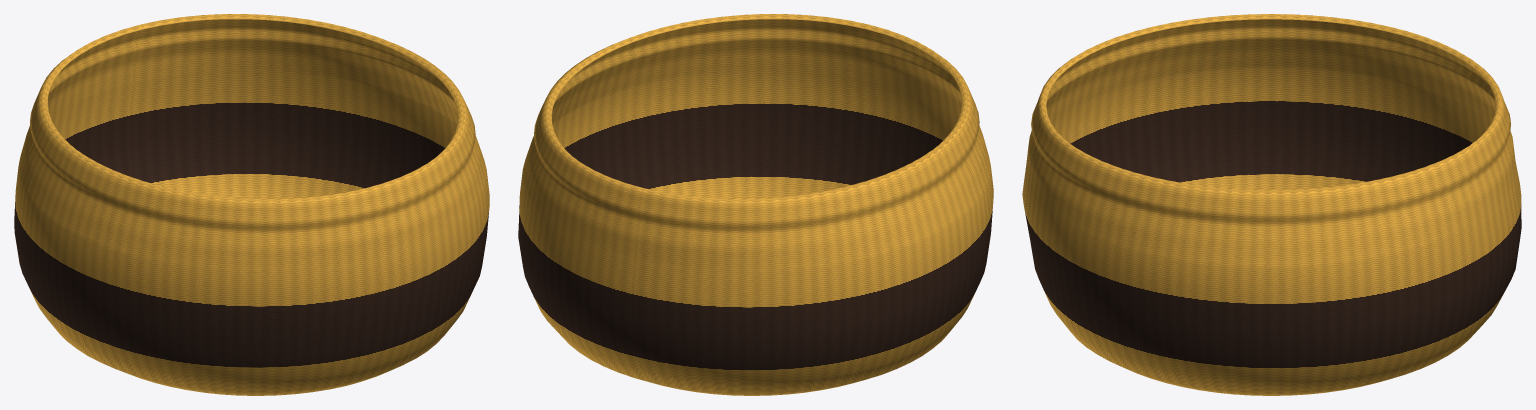
Rendered from abdomen.fbx.
The picture shows the model from 3 angles, left to right: view 1: azimuth 30°, elevation 25°; view 2: azimuth 150°, elevation 25°; view 3: azimuth 270°, elevation 25°; orthographic projection. The views are drawn at different scales.
Visible parts, largest first — view 1: abdomen; view 2: abdomen; view 3: abdomen.
Boxes of the visible parts, x1,y1,x2,y2 form: abdomen: (14,14,489,395); abdomen: (518,14,993,395); abdomen: (1022,14,1521,395).
Size of the model in its own units: 72.01 by 36.3 by 74.86.
Materials: 1 (1 with a texture image).
